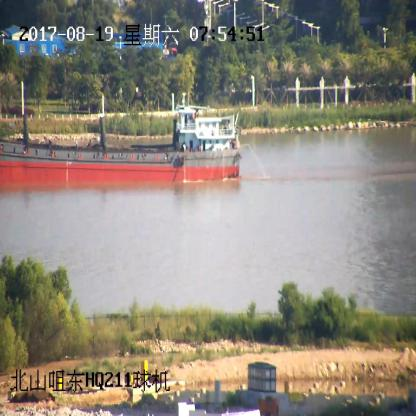Bulk Carrier: (0, 98, 243, 185)
